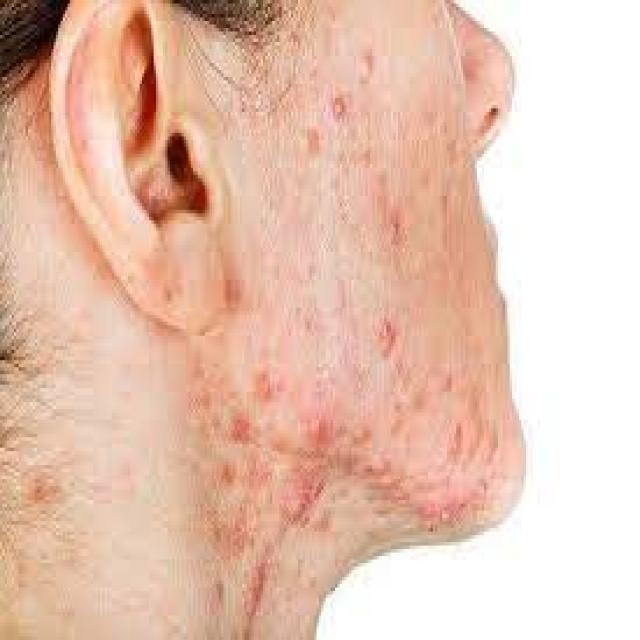Acne: (422, 498, 453, 537), (377, 314, 397, 361), (258, 369, 285, 403), (309, 414, 334, 448), (355, 52, 374, 84), (232, 412, 250, 445), (329, 92, 347, 124)
